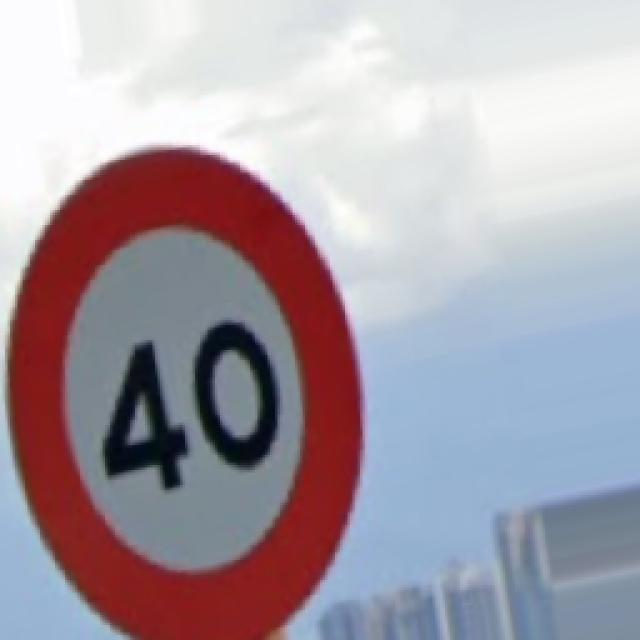Speed Limit -40-: (10, 150, 358, 638)
